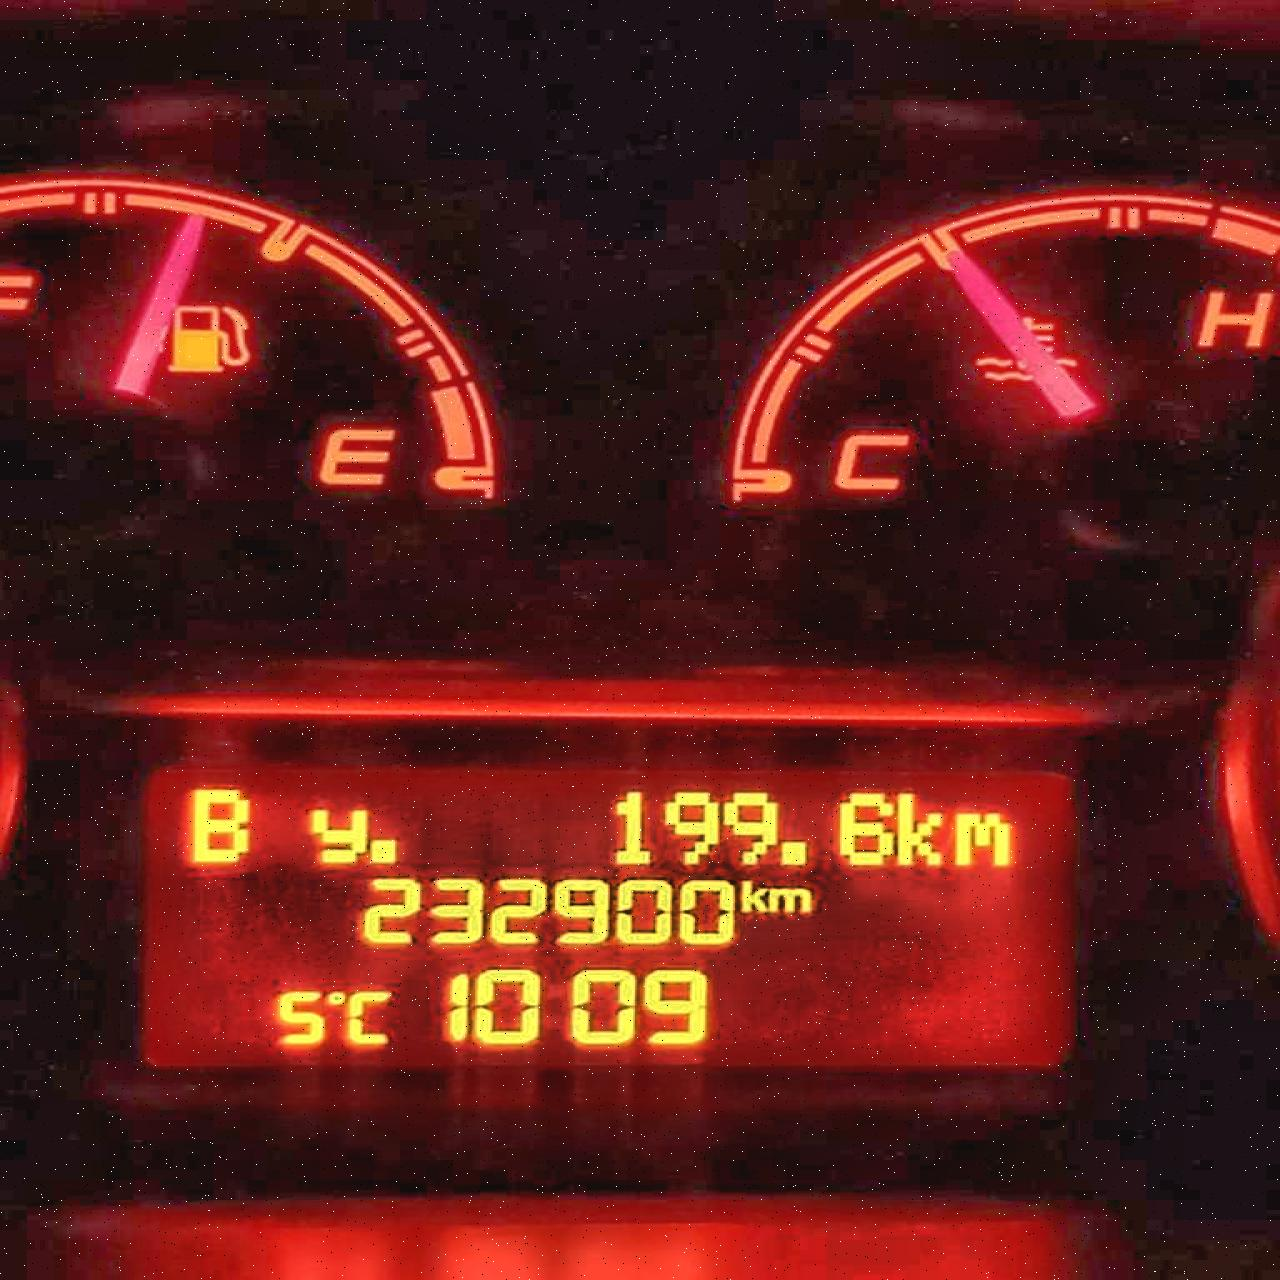-: (777, 833, 809, 867), (369, 835, 399, 865)
0: (561, 965, 636, 1046), (471, 964, 543, 1048), (610, 874, 675, 945), (676, 877, 735, 947)
1: (607, 787, 655, 865), (437, 968, 470, 1043)
2: (352, 873, 423, 947), (485, 870, 549, 946)
3: (425, 873, 485, 946)
5: (266, 986, 327, 1046)
6: (830, 789, 893, 867)
9: (639, 965, 708, 1046), (659, 787, 720, 866), (720, 785, 778, 866), (549, 873, 612, 946)
X: (182, 781, 257, 870), (301, 803, 368, 867), (892, 787, 945, 867), (948, 808, 1012, 869), (343, 987, 394, 1047), (768, 883, 812, 913), (735, 877, 767, 914)
odometer: (127, 757, 1085, 1082)
